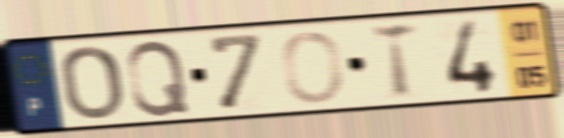4: (443, 15, 499, 96)
7: (205, 33, 269, 114)
O: (57, 42, 127, 122), (279, 28, 347, 106)
Q: (124, 37, 193, 120)
T: (368, 19, 421, 102)
